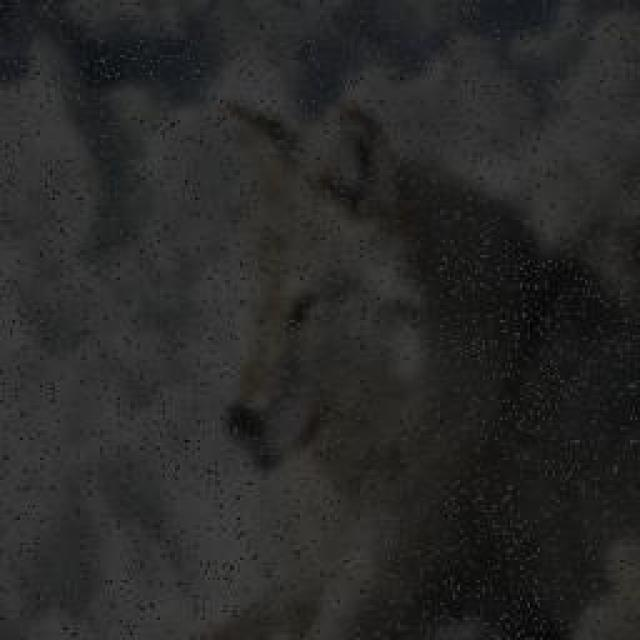Fox: (212, 97, 639, 640)
